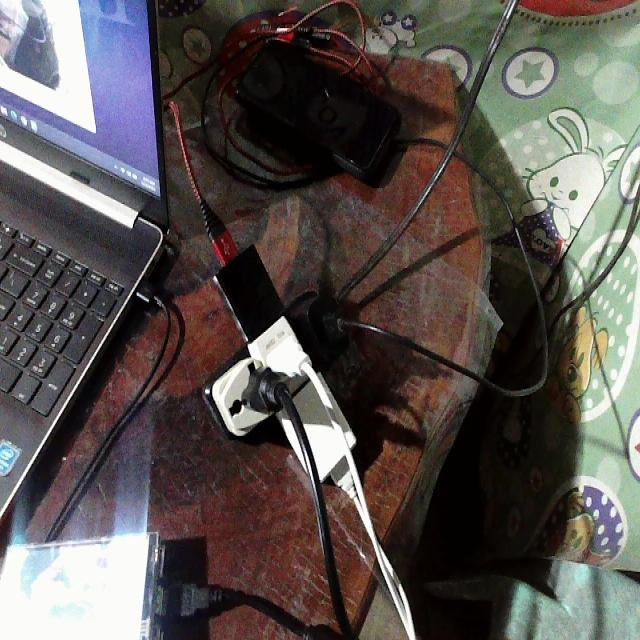-: (196, 200, 373, 500)
